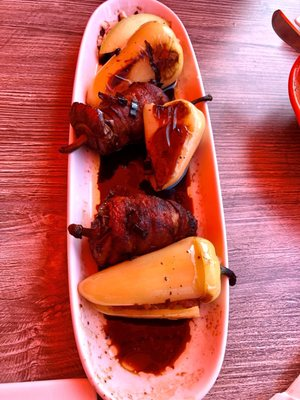curry: (0, 0, 299, 326)
